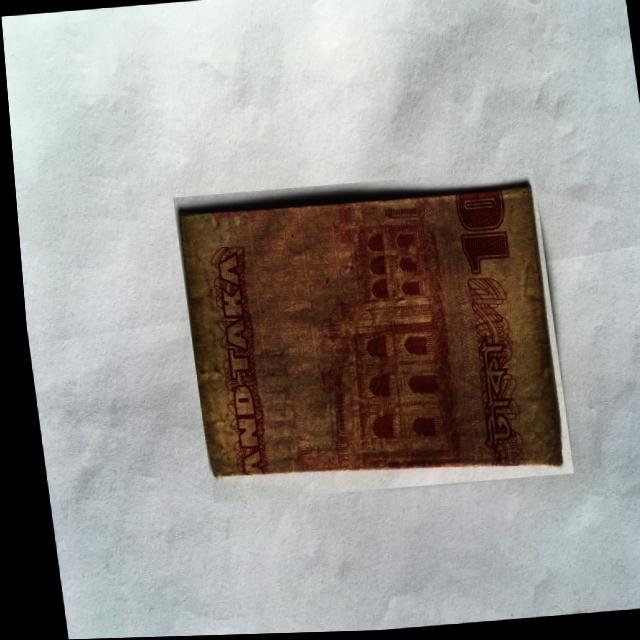Taka: (168, 171, 567, 505)
